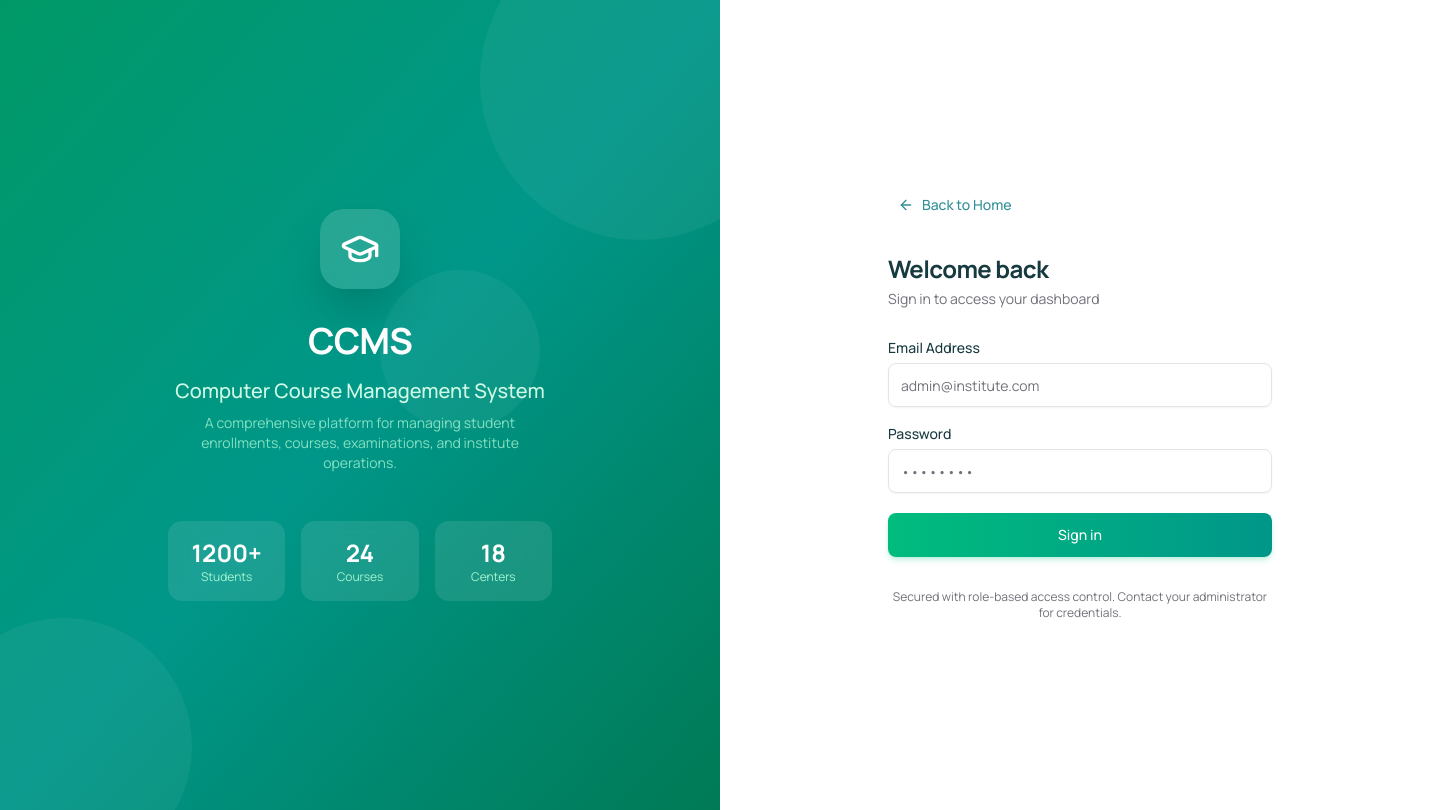
Test: LoginPage Integration Tests › should handle wrong credentials / unauthorized API response (Negative Test)
Type "invalid@institute.com" into the field labelled "Email Address" at (1080, 385), box x1=888 y1=363 x2=1272 y2=407
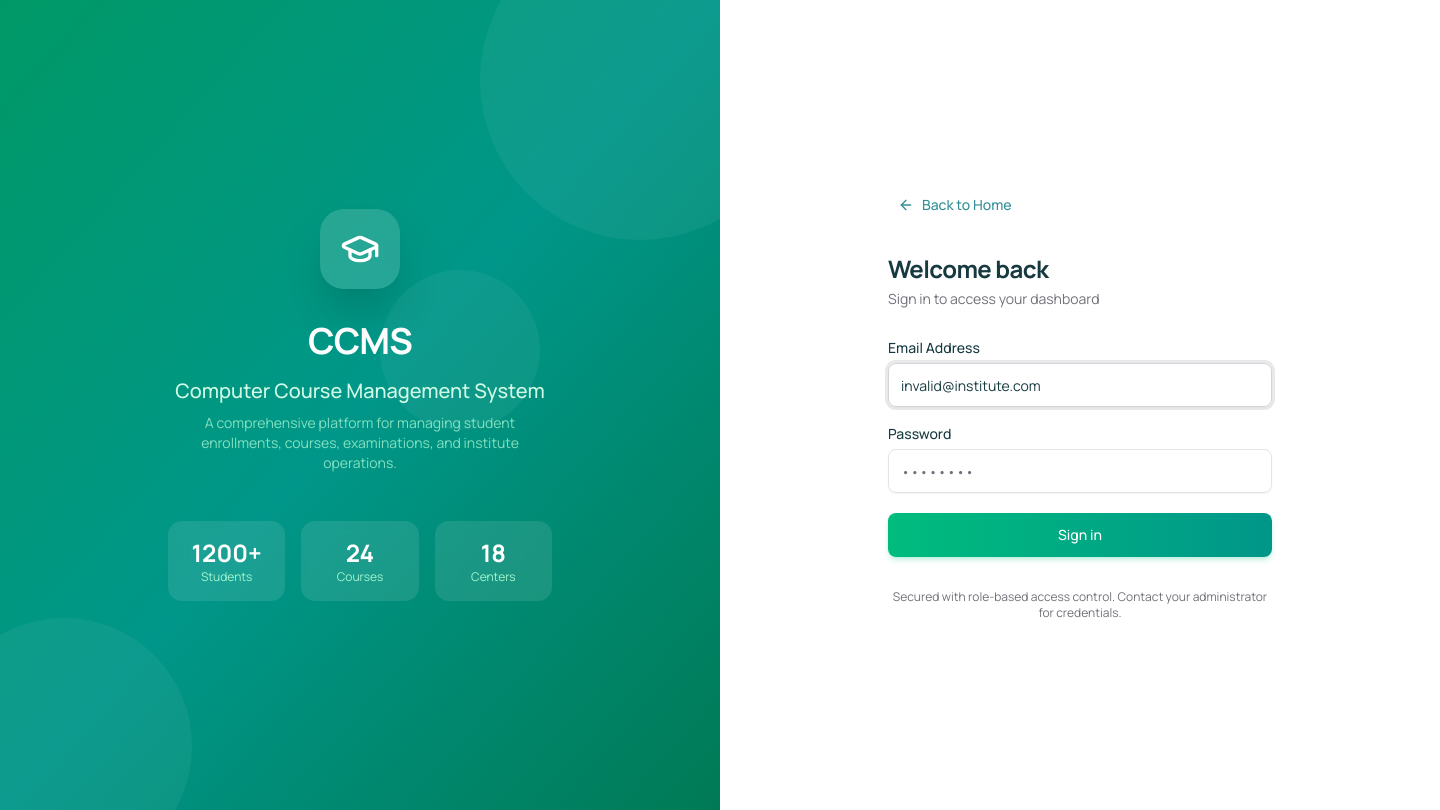
Type "wrongpassword" into the password field labelled "Password" at (1080, 471), box x1=888 y1=449 x2=1272 y2=493
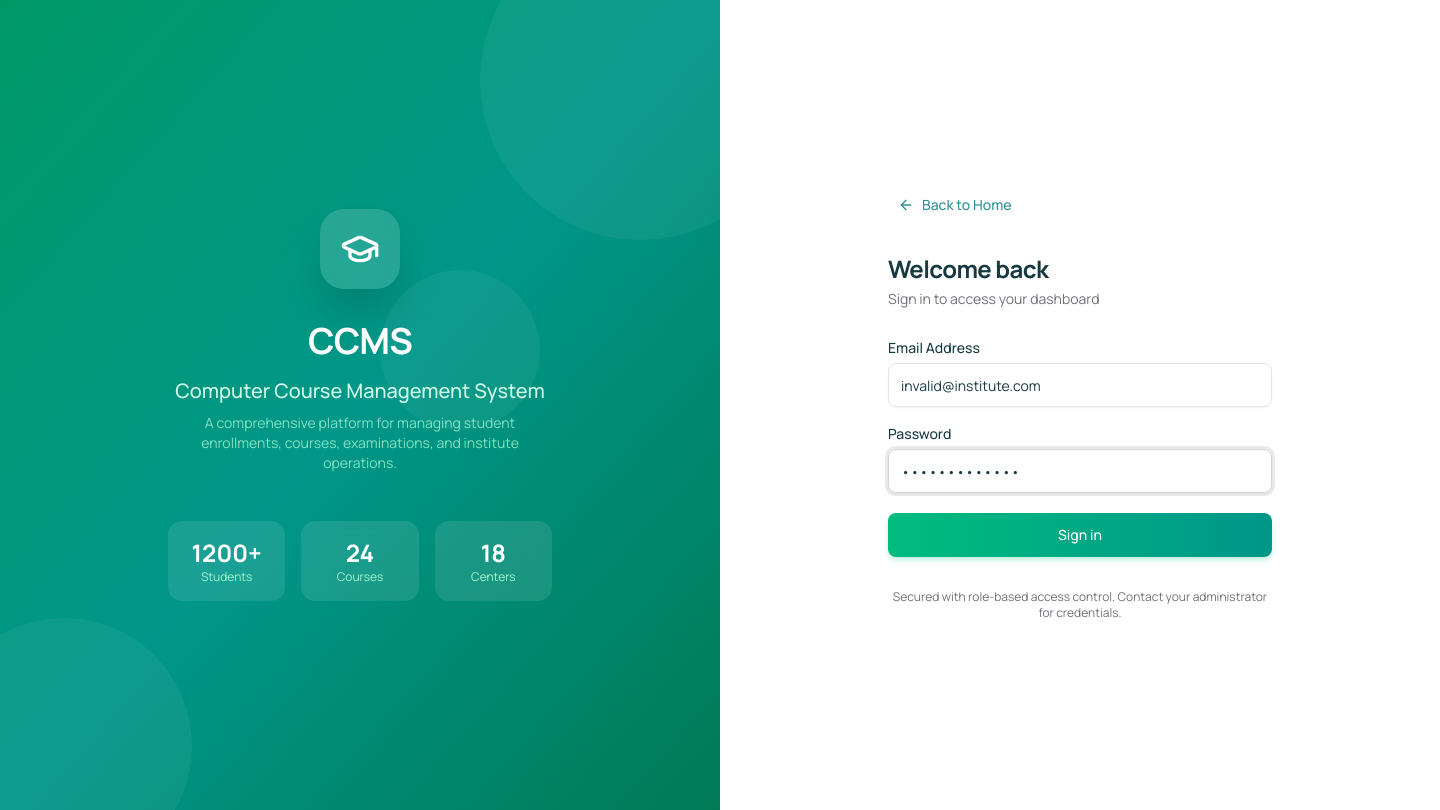
Click the button "Sign in" at (1080, 535), box x1=888 y1=513 x2=1272 y2=557
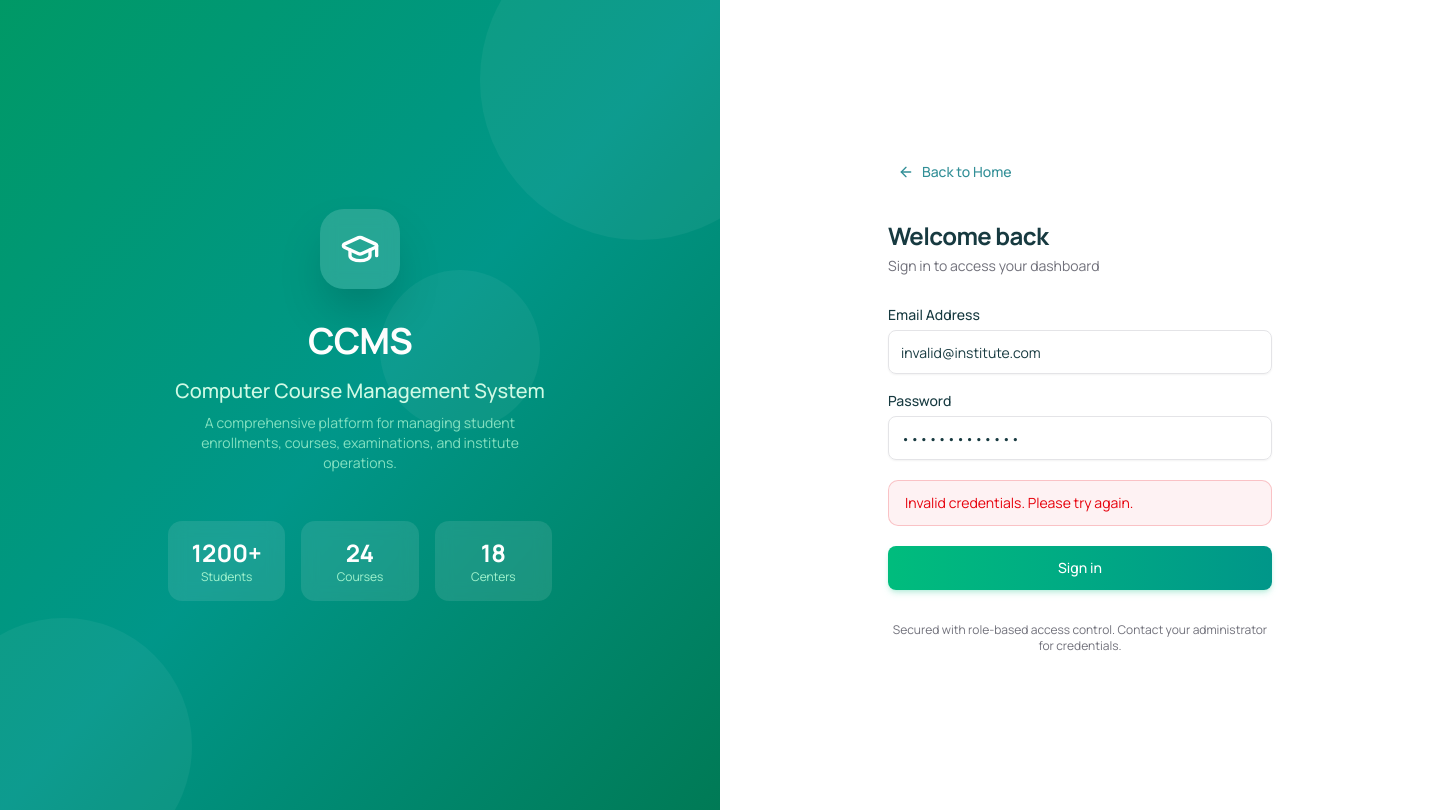
expect the text "Invalid credentials. Please try again." is shown: met, box x1=888 y1=480 x2=1272 y2=526
